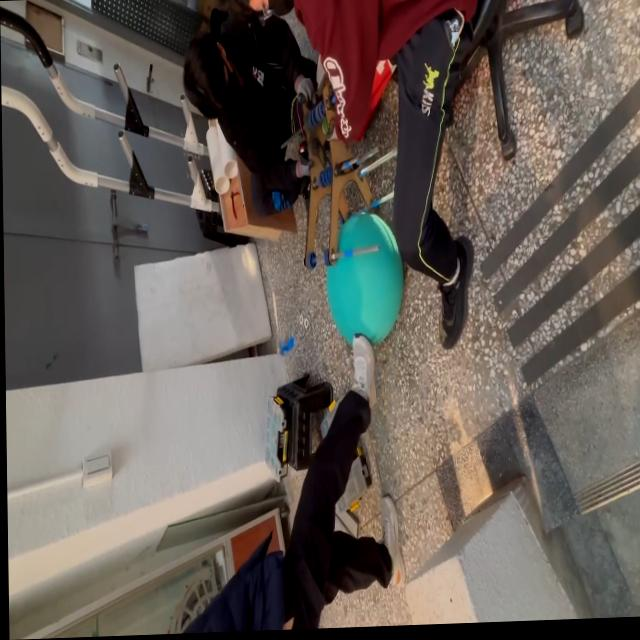ALGAE: (324, 208, 406, 351)
